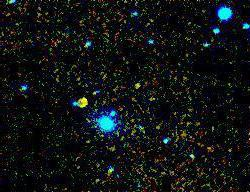star: (68, 82, 98, 112)
